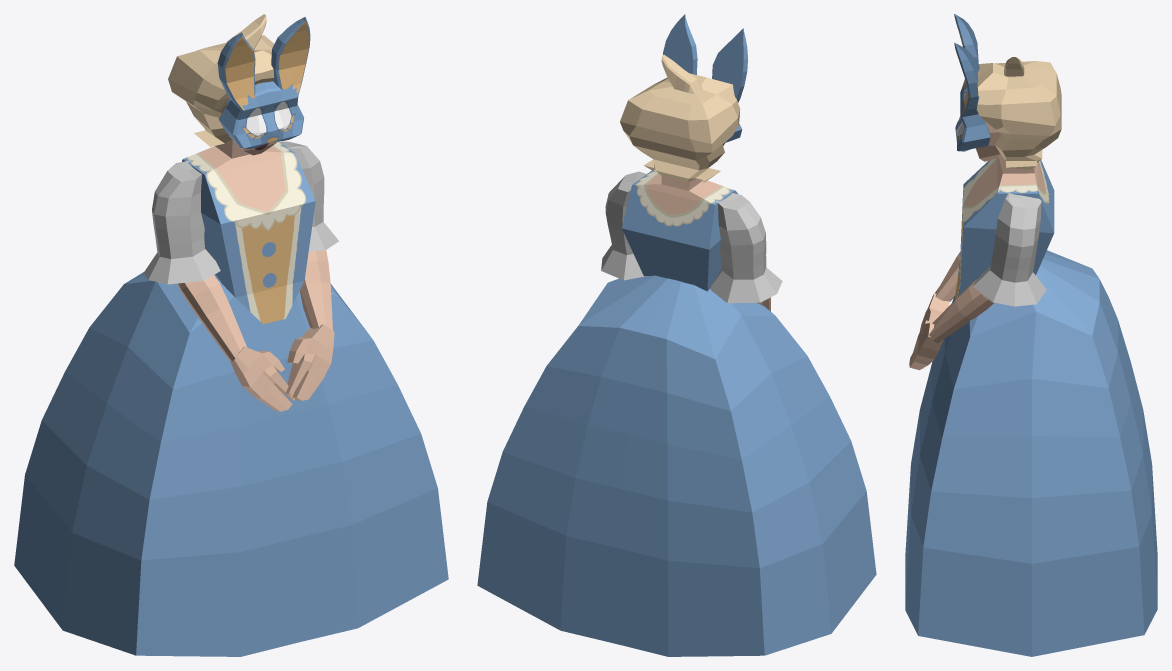
The model's file is RabbitFull.fbx.
3 views of the same model, side by side, from view 1: azimuth 30°, elevation 25°; view 2: azimuth 150°, elevation 25°; view 3: azimuth 270°, elevation 25° (orthographic). The views are drawn at different scales.
Parts seen in each view (by area): view 1: Cube.002, Cube.004, Cube.017, Cube, Cube.009, Cube.003; view 2: Cube.002, Cube.003, Cube.004, Cube.009, Cube; view 3: Cube.002, Cube.003, Cube.004, Cube.009, Cube.017, Cube, Cube.001.
Part boxes in pixels (box(x1,y1,x2,y2)): Cube.002: box(14, 272, 448, 656); Cube.004: box(182, 139, 315, 324); Cube.017: box(177, 250, 334, 411); Cube: box(217, 17, 310, 149); Cube.009: box(144, 141, 338, 284); Cube.003: box(168, 14, 274, 146); Cube.002: box(477, 275, 876, 656); Cube.003: box(620, 55, 740, 182); Cube.004: box(622, 170, 738, 291); Cube.009: box(601, 171, 782, 303); Cube: box(663, 14, 747, 142); Cube.002: box(905, 250, 1157, 656); Cube.003: box(976, 57, 1061, 169); Cube.004: box(954, 154, 1054, 299); Cube.009: box(973, 192, 1046, 306); Cube.017: box(909, 251, 994, 370); Cube: box(954, 14, 990, 151); Cube.001: box(976, 120, 1001, 161).
Bounding box in the file's own units: 155 × 264 × 109.
